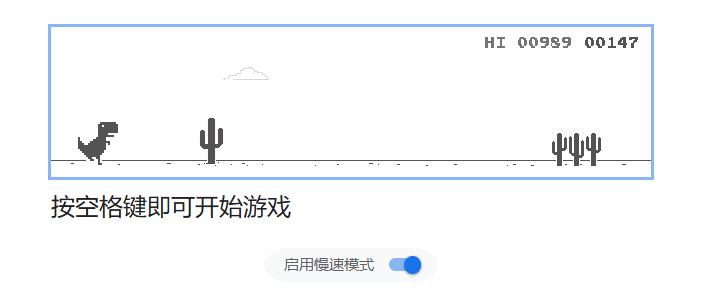cactus: (550, 133, 608, 169), (196, 116, 225, 165)
dino: (76, 119, 120, 169)
